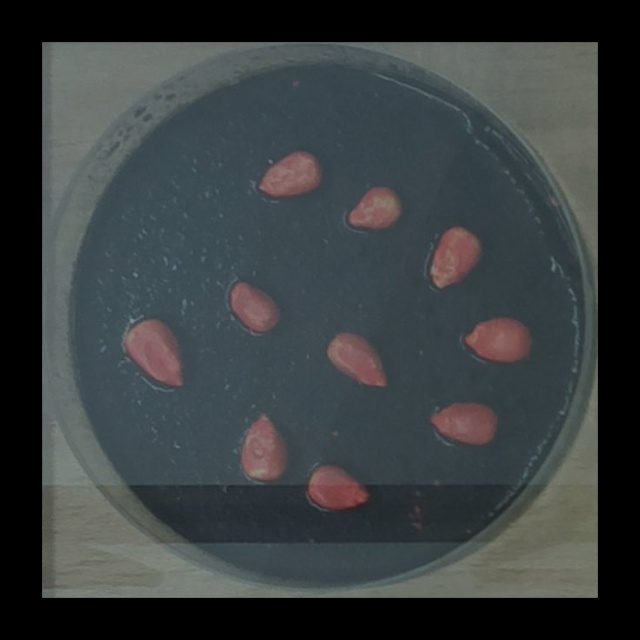Zea mays: (118, 313, 190, 393), (422, 220, 490, 296), (320, 325, 395, 392), (234, 406, 293, 487), (252, 143, 327, 205), (458, 311, 537, 368), (300, 458, 375, 518), (425, 394, 504, 450), (222, 275, 285, 337), (339, 178, 407, 234)
